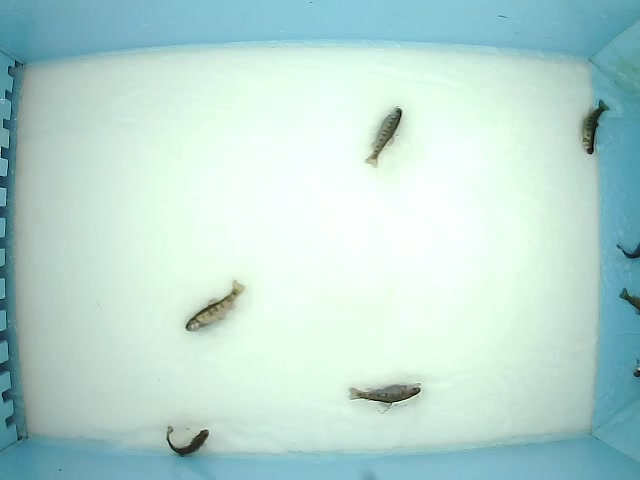fish: (183, 277, 247, 333), (362, 105, 403, 171), (574, 96, 614, 161), (345, 380, 423, 405), (165, 426, 210, 458)
